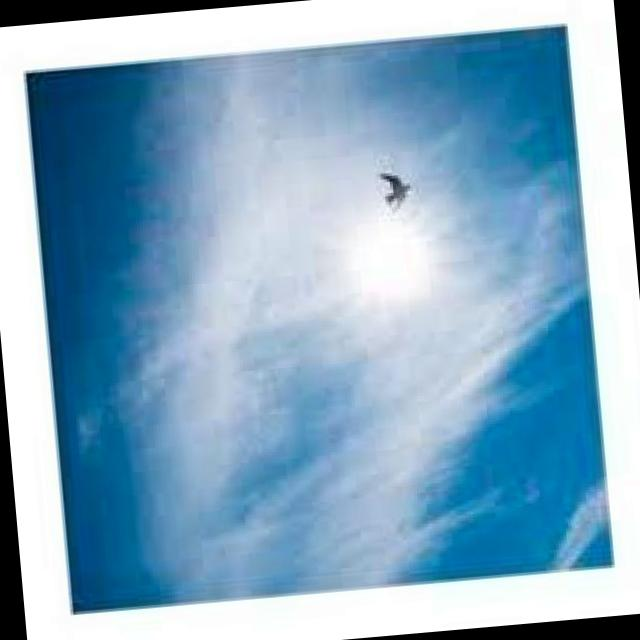bird: (372, 162, 421, 216)
